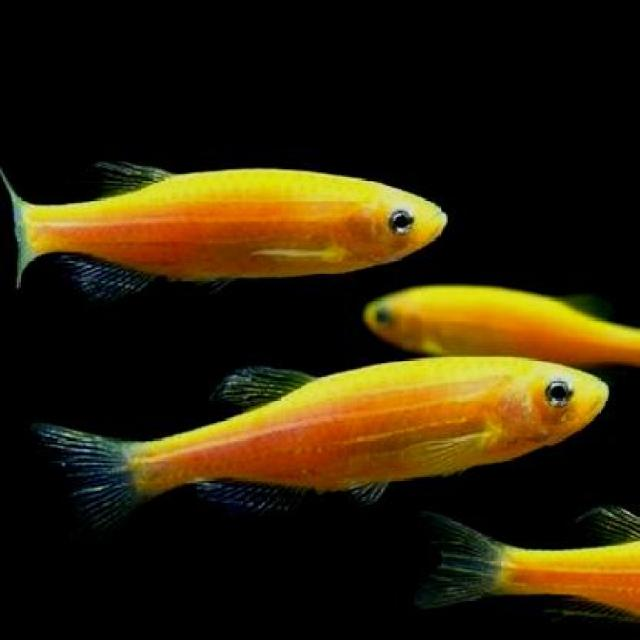ZebraFish: (97, 348, 605, 498), (0, 149, 448, 283)
